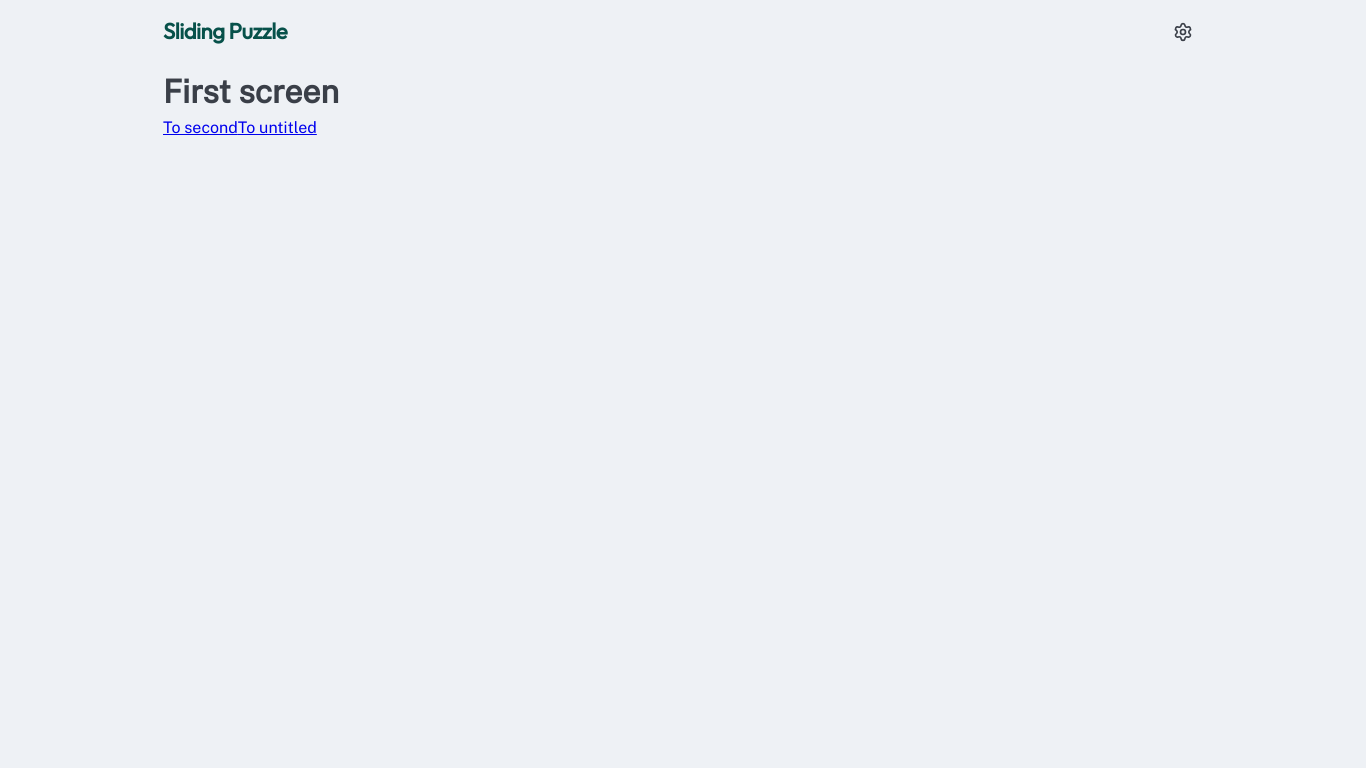
Test: AppShell › opens Settings from the gear on /first
Click the button named "Settings".
click(1183, 32)  # box [1163, 12, 1203, 52]
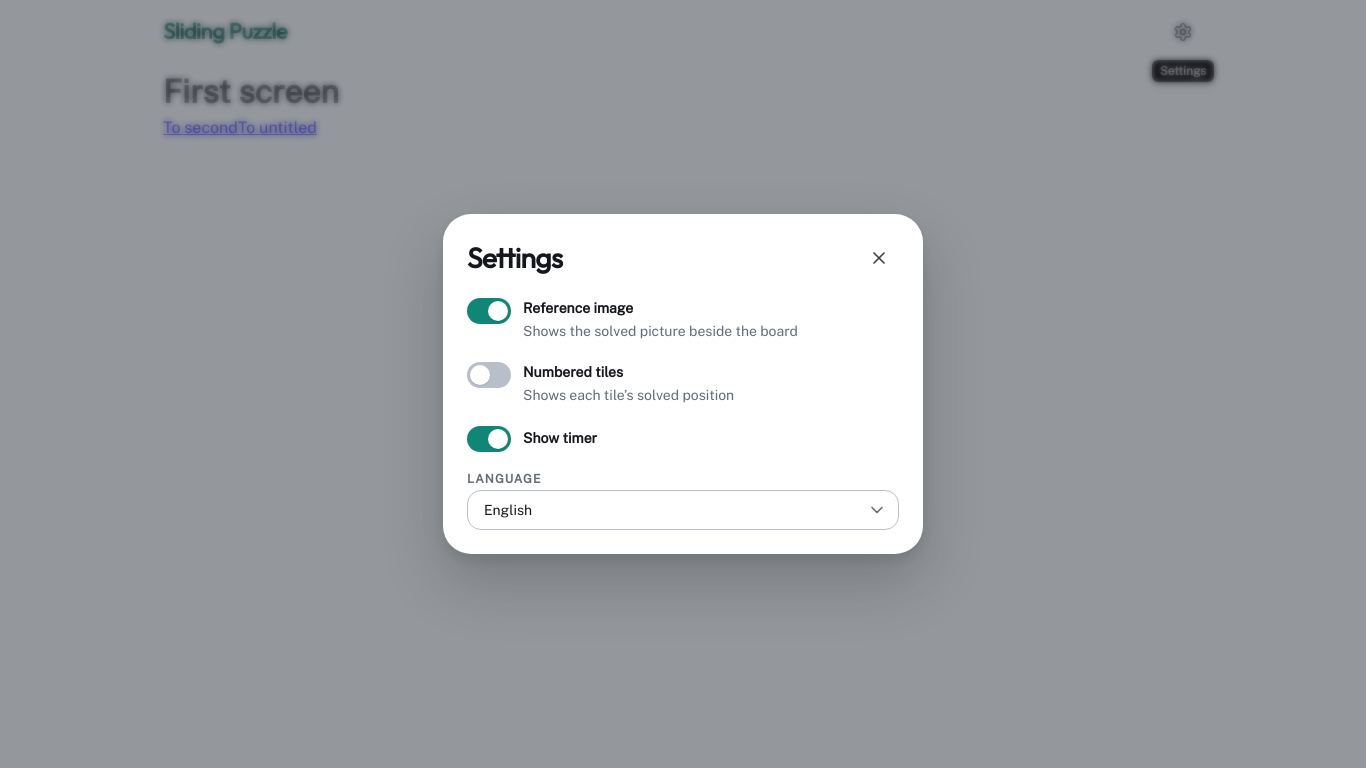
Expected: the dialog is shown, [443, 214, 923, 554]
